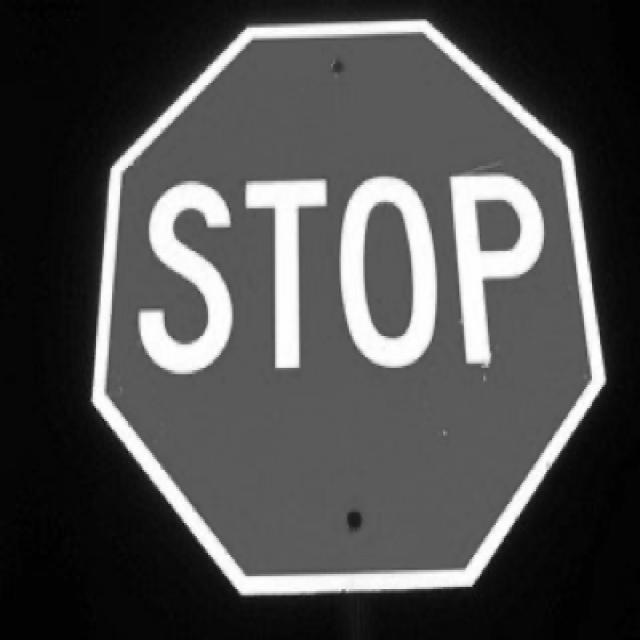Stop-signs: (93, 21, 606, 589)
